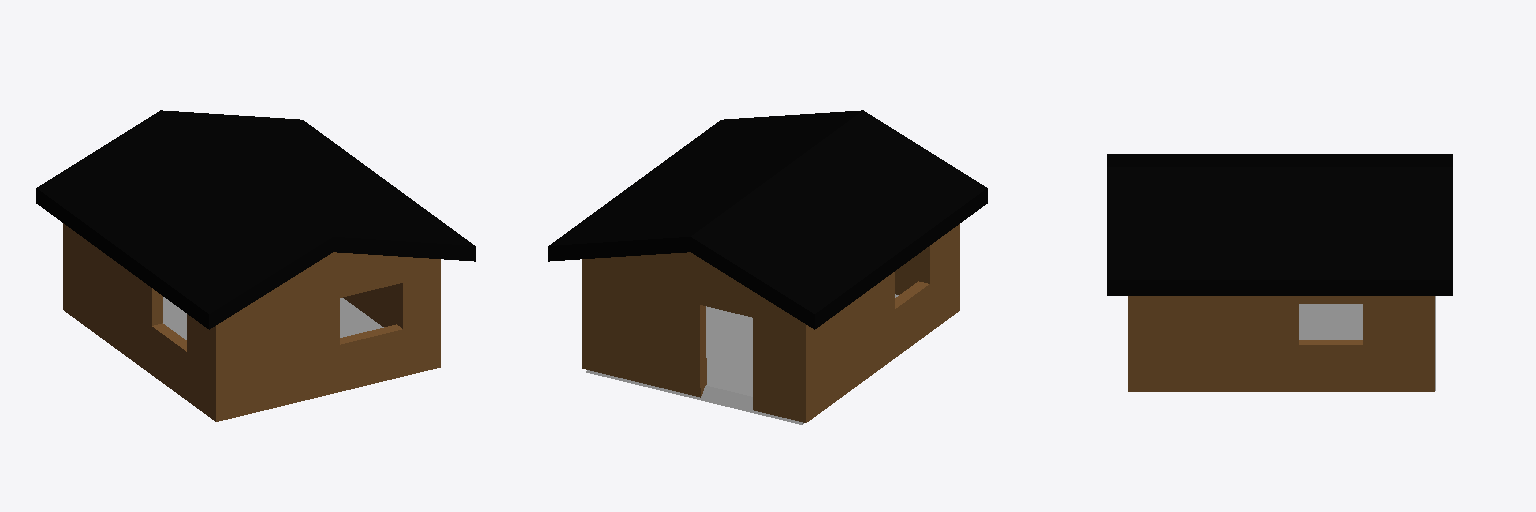
File: house.obj
The picture shows the model from 3 angles: view 1: azimuth 30°, elevation 25°; view 2: azimuth 150°, elevation 25°; view 3: azimuth 270°, elevation 25°; orthographic projection.
Visible parts, largest first — view 1: Roof, Walls, Floor; view 2: Roof, Walls, Floor; view 3: Roof, Walls, Floor.
Boxes of the visible parts, box(x1,y1,x2,y2) form: Roof: box(36, 110, 475, 329); Walls: box(63, 223, 440, 421); Floor: box(163, 297, 383, 339); Roof: box(548, 110, 987, 329); Walls: box(582, 224, 959, 422); Floor: box(586, 294, 898, 424); Roof: box(1107, 154, 1452, 295); Walls: box(1128, 296, 1434, 391); Floor: box(1299, 296, 1435, 390).
Size of the model in its own units: 6.62 by 4.02 by 7.44.